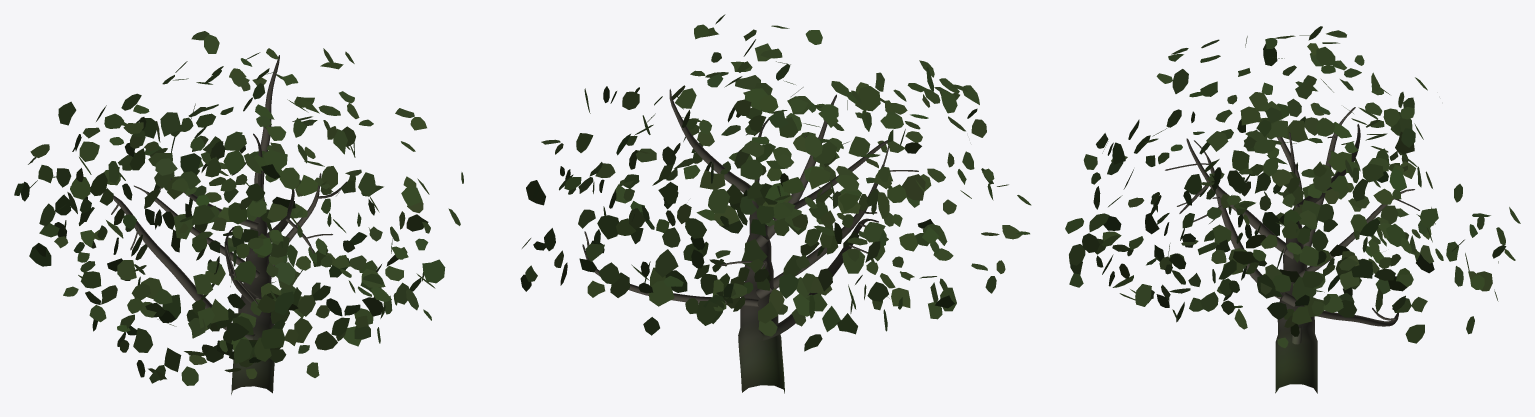
Rendered from SM_TreeFar_oak_3.glb.
3 renders of one model, left to right at view 1: azimuth 30°, elevation 25°; view 2: azimuth 150°, elevation 25°; view 3: azimuth 270°, elevation 25°, orthographic. The views are drawn at different scales.
Parts seen in each view (by area): view 1: SM_TreeFar_oak_3; view 2: SM_TreeFar_oak_3; view 3: SM_TreeFar_oak_3.
Boxes of the visible parts, bbox=[...] form: SM_TreeFar_oak_3: bbox=[14, 31, 463, 394]; SM_TreeFar_oak_3: bbox=[520, 14, 1031, 393]; SM_TreeFar_oak_3: bbox=[1065, 26, 1520, 393].
Size of the model in its own units: 25.69 by 21.31 by 24.86.
